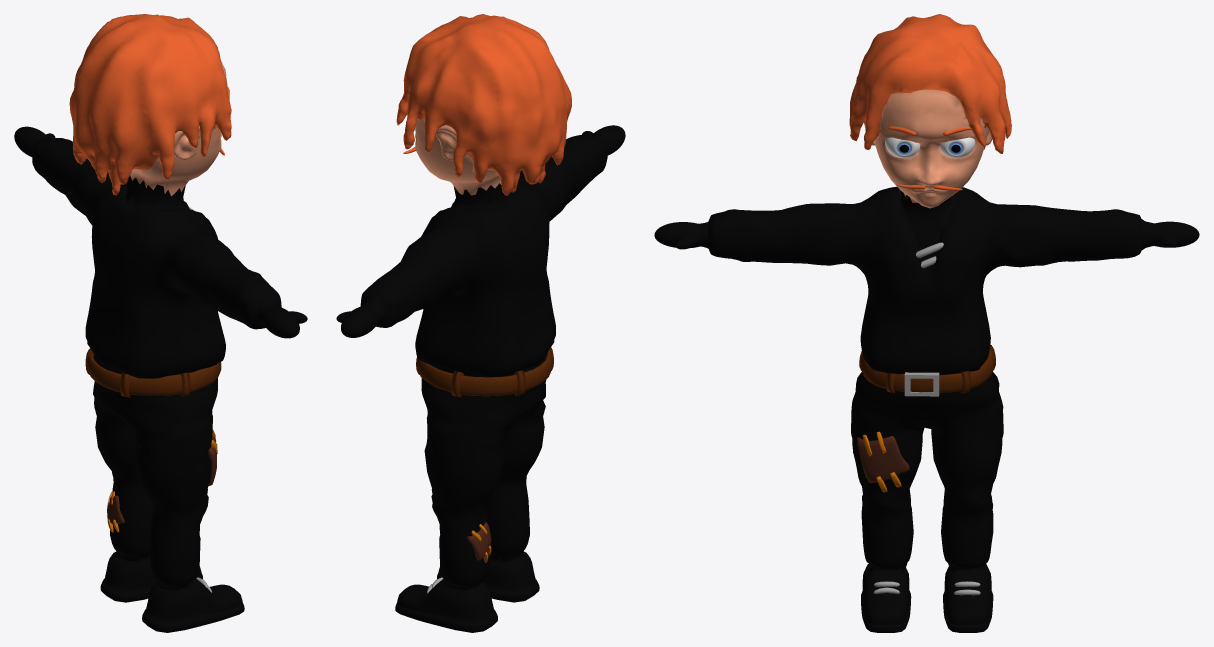
The model's file is pers_tpose.fbx.
The picture shows the model from 3 angles, left to right: view 1: azimuth 30°, elevation 25°; view 2: azimuth 150°, elevation 25°; view 3: azimuth 270°, elevation 25°; orthographic projection.
Visible parts, largest first — view 1: head, Torus.002, ears; view 2: head, Torus.002, ears, Cube.016; view 3: head, Torus.002, Cube.005, eyes.
Boxes of the visible parts, <box> form: head: <box>14,14,307,632</box>; Torus.002: <box>85,348,221,397</box>; ears: <box>174,126,200,159</box>; head: <box>336,14,625,632</box>; Torus.002: <box>416,347,553,397</box>; ears: <box>436,125,456,160</box>; Cube.016: <box>466,522,491,560</box>; head: <box>654,14,1199,632</box>; Torus.002: <box>859,344,995,393</box>; Cube.005: <box>857,436,909,482</box>; eyes: <box>885,137,975,158</box>.
Bounding box in the file's own units: 147 × 573 × 490.
